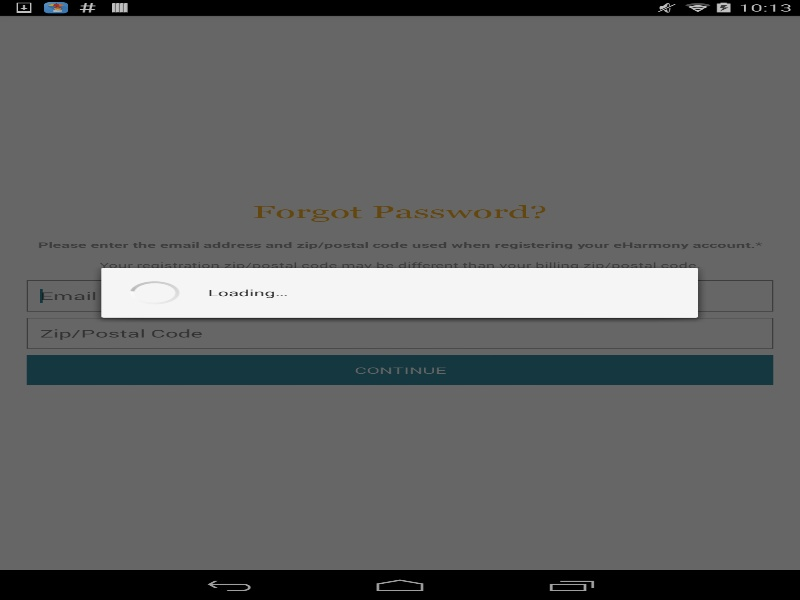Button: (26, 266, 773, 296)
Input: (26, 191, 773, 223), (26, 229, 773, 260)
